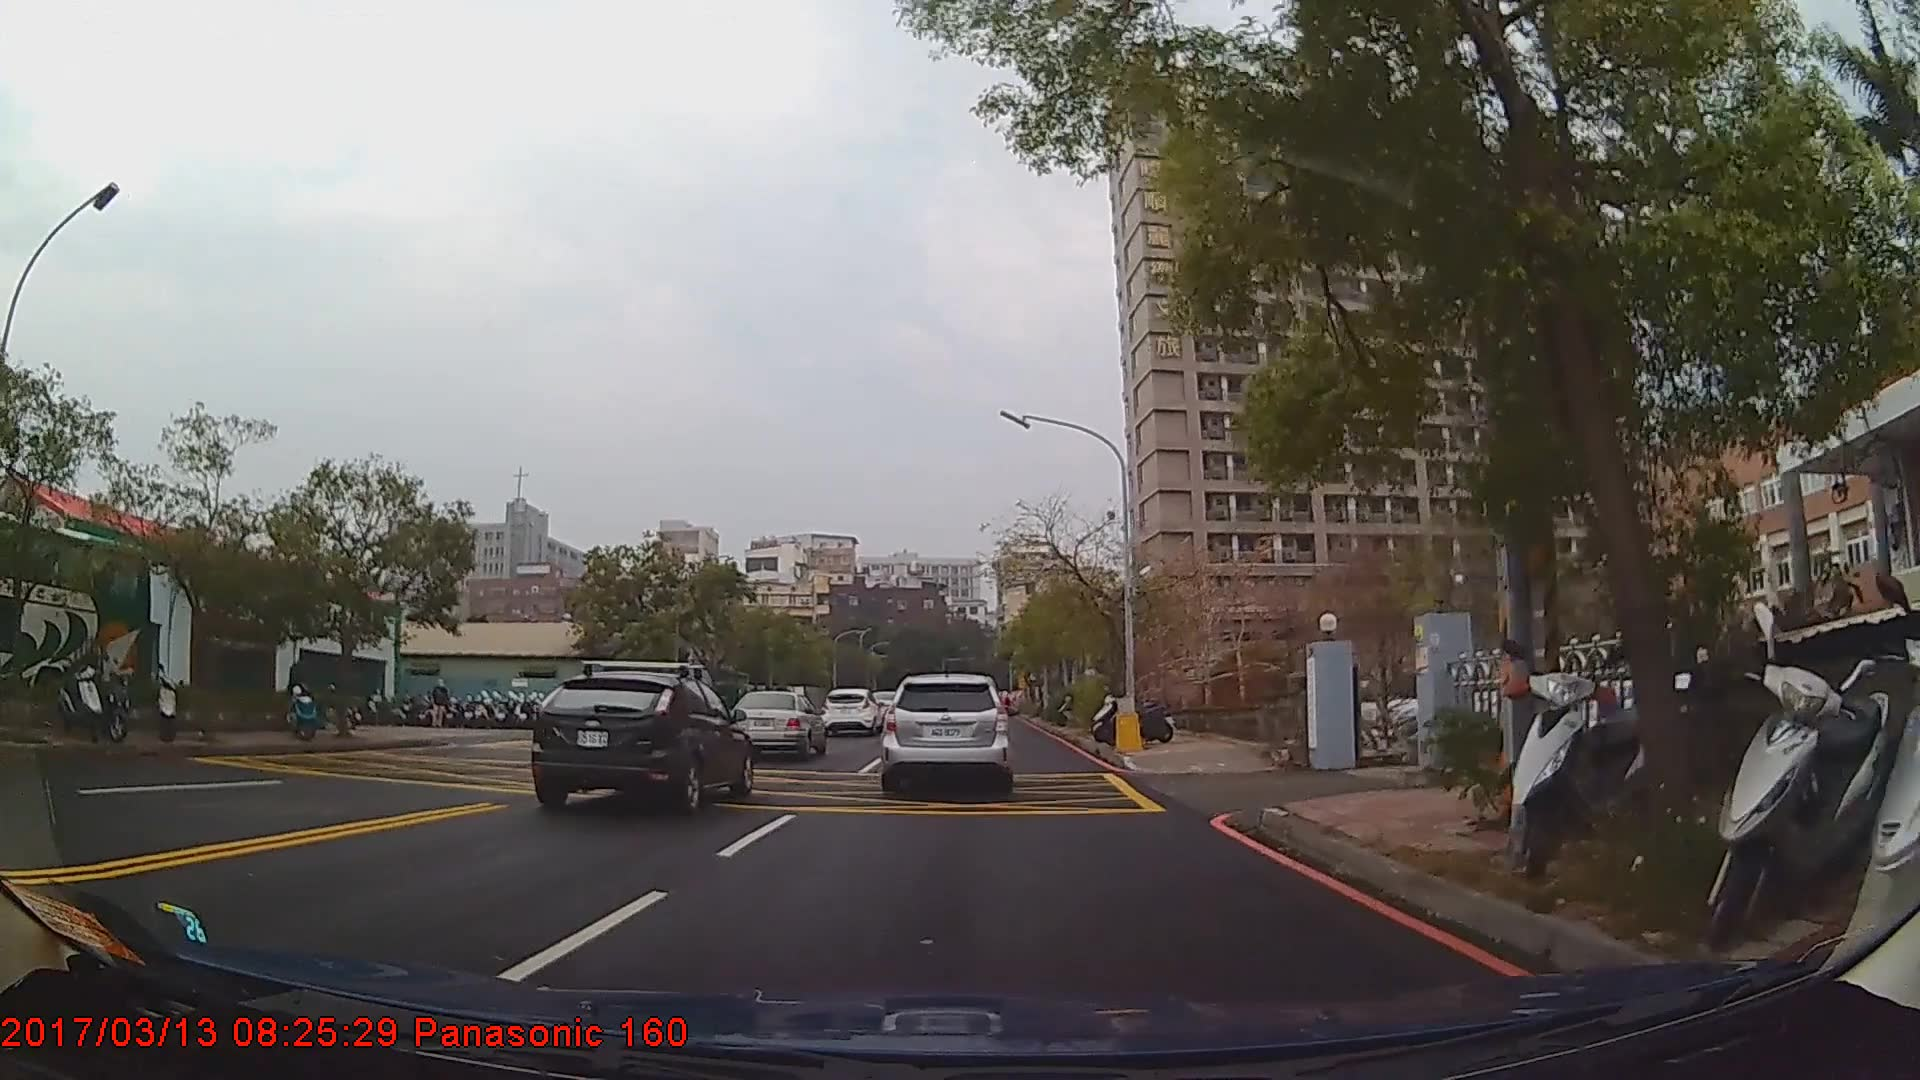pedestrian: (432, 680, 452, 729)
vehicle: (0, 502, 153, 725), (529, 668, 753, 812), (883, 672, 1009, 788), (728, 688, 824, 758), (821, 686, 883, 736)
